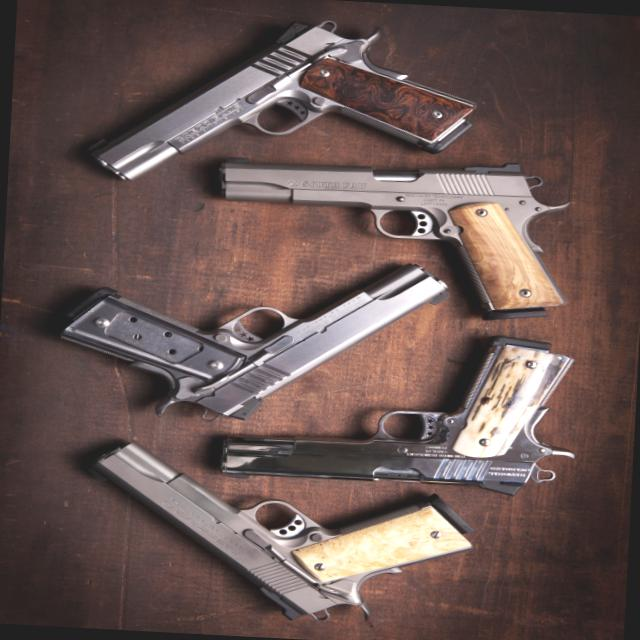handgun: (73, 436, 480, 630), (36, 246, 448, 434), (80, 7, 480, 200), (201, 146, 575, 324), (208, 326, 577, 497)
